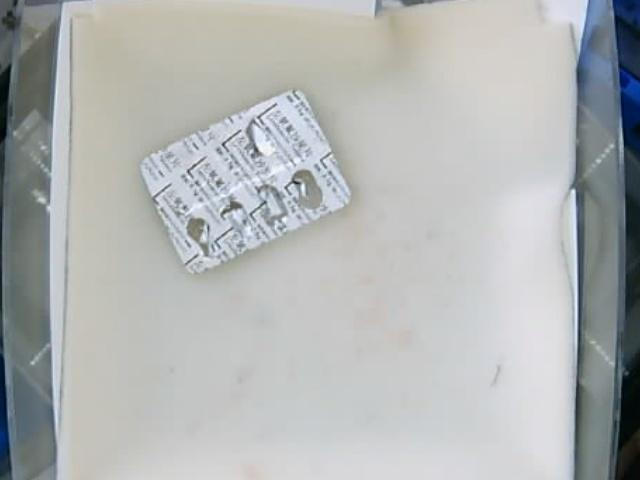Medicine: (141, 86, 352, 275)
